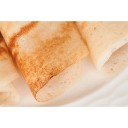dosa: (1, 21, 128, 104)
